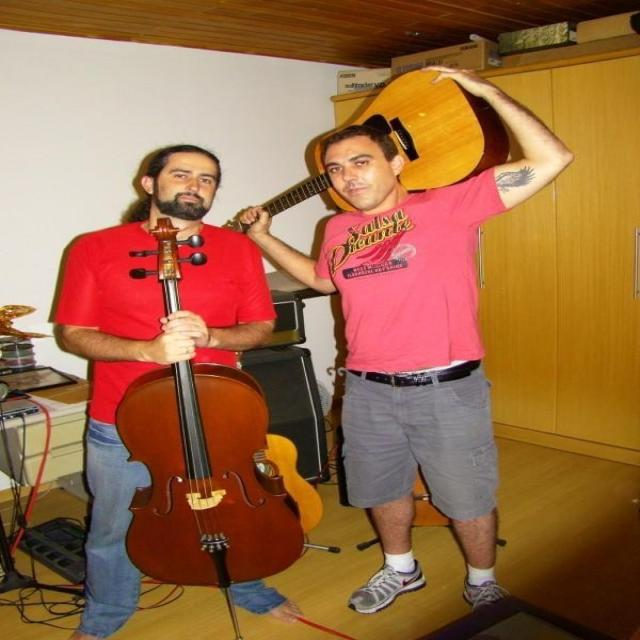cello: (119, 213, 312, 589)
guitar: (226, 65, 515, 230)
